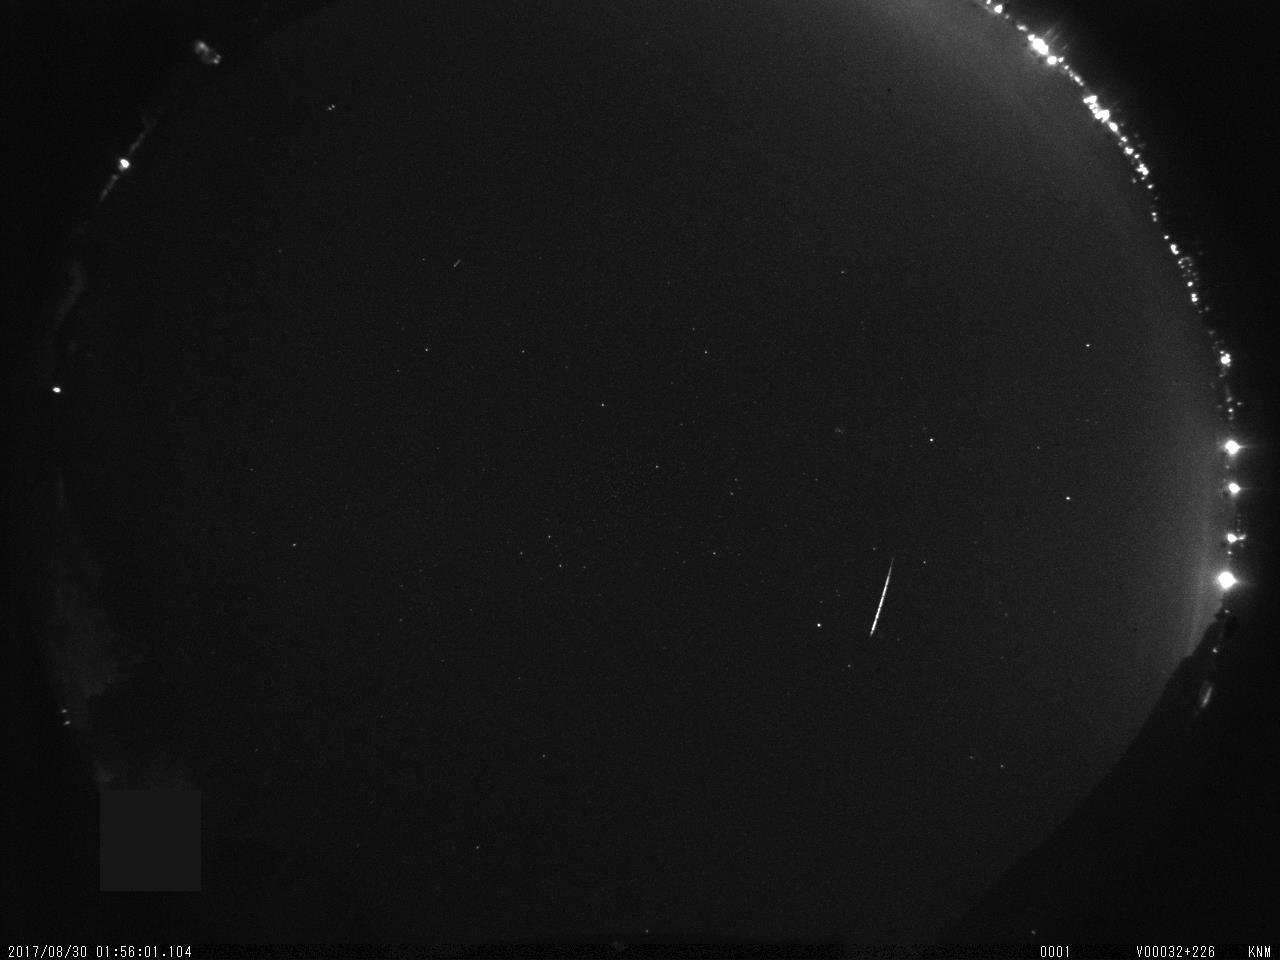meteor: (864, 549, 911, 640)
